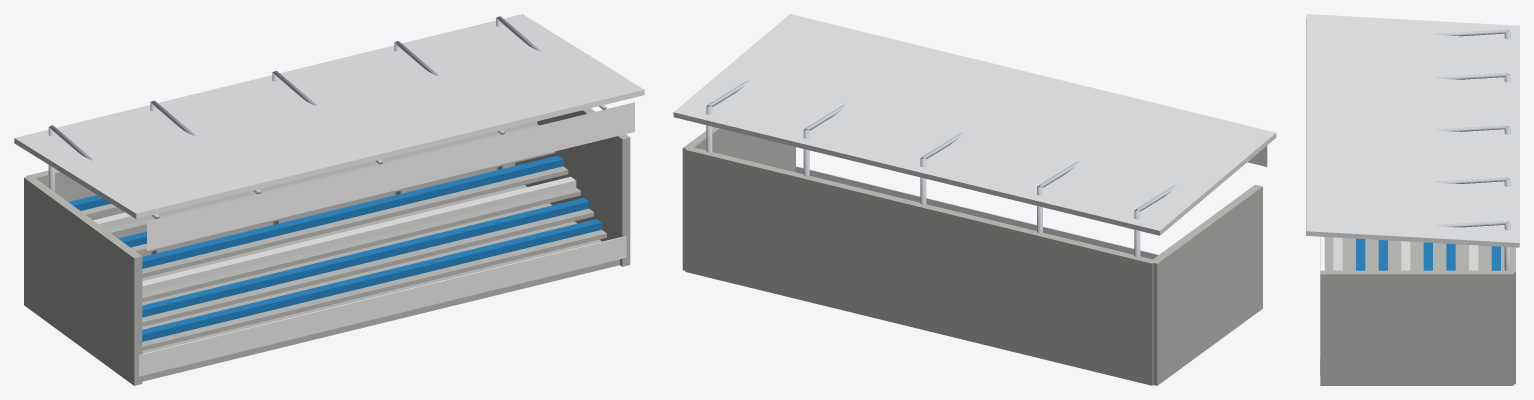
Rendered from grandstand.glb.
3 renders of one model, left to right at view 1: azimuth 30°, elevation 25°; view 2: azimuth 150°, elevation 25°; view 3: azimuth 270°, elevation 25°, orthographic. The views are drawn at different scales.
Visible parts, largest first — view 1: Box.020, Box.018, Banner, Box.021, Box.016, Box.019, Box.003, Box.005, Box.007, Box.009, Box.002, Box.004 (+6 smaller); view 2: Box.020, Box.017, Box.018, Box.019, Box.021; view 3: Box.020, Box.019, Box.017, Box.002, Box.006, Box.010, Box.004, Box.016, Box, Box.008, Box.012, Box.001 (+14 smaller).
Part boxes in pixels (box(x1,y1,x2,y2)): Box.020: box(14, 14, 644, 218); Box.018: box(24, 176, 142, 385); Banner: box(147, 102, 634, 250); Box.021: box(138, 236, 626, 376); Box.016: box(142, 185, 619, 381); Box.019: box(515, 108, 630, 266); Box.003: box(142, 219, 601, 341); Box.005: box(142, 198, 588, 317); Box.007: box(142, 176, 576, 293); Box.009: box(142, 155, 563, 268); Box.002: box(142, 230, 606, 350); Box.004: box(142, 208, 593, 326); Box.020: box(673, 14, 1276, 235); Box.017: box(685, 146, 1153, 385); Box.018: box(1150, 184, 1262, 385); Box.019: box(682, 126, 795, 270); Box.021: box(795, 166, 1158, 259); Box.020: box(1306, 14, 1519, 247); Box.019: box(1320, 270, 1513, 385); Box.017: box(1507, 247, 1515, 384); Box.002: box(1347, 238, 1369, 270); Box.006: box(1392, 240, 1414, 270); Box.010: box(1437, 243, 1460, 270); Box.004: box(1370, 239, 1392, 270); Box.016: box(1324, 237, 1347, 270); Box: box(1324, 237, 1347, 270); Box.008: box(1415, 242, 1437, 270); Box.012: box(1460, 244, 1482, 270); Box.001: box(1333, 237, 1342, 270).
Bounding box in the file's own units: 25 × 8.44 × 10.45.
